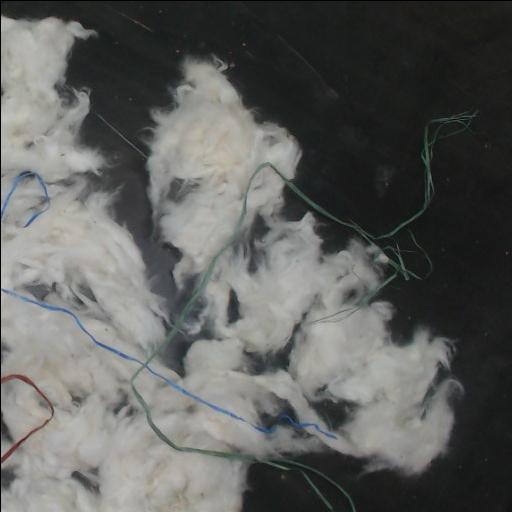conveyor belt: (1, 1, 512, 512), (110, 162, 189, 334), (241, 445, 364, 512), (157, 331, 193, 376), (248, 338, 292, 370), (313, 399, 352, 429), (259, 401, 296, 425)
cotton: (1, 16, 461, 512)
thread: (1, 112, 475, 512), (1, 374, 54, 464), (1, 171, 53, 228)
